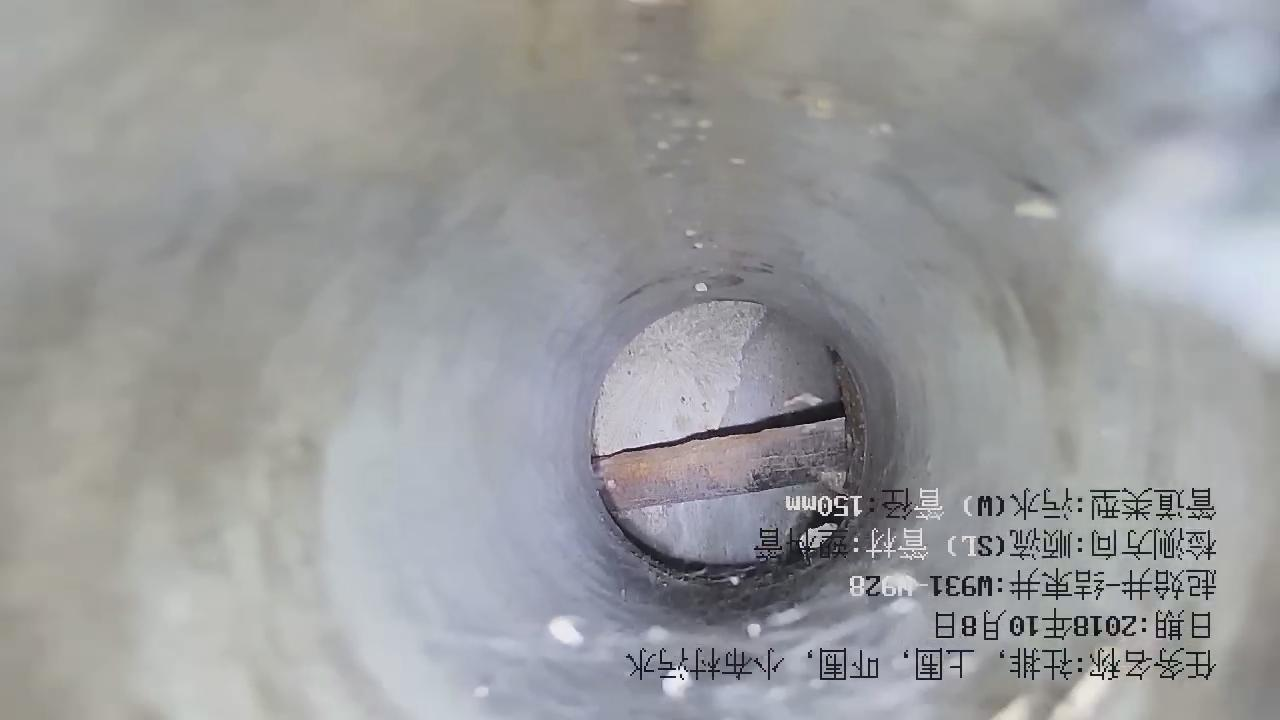YWCR: (593, 418, 859, 508)
